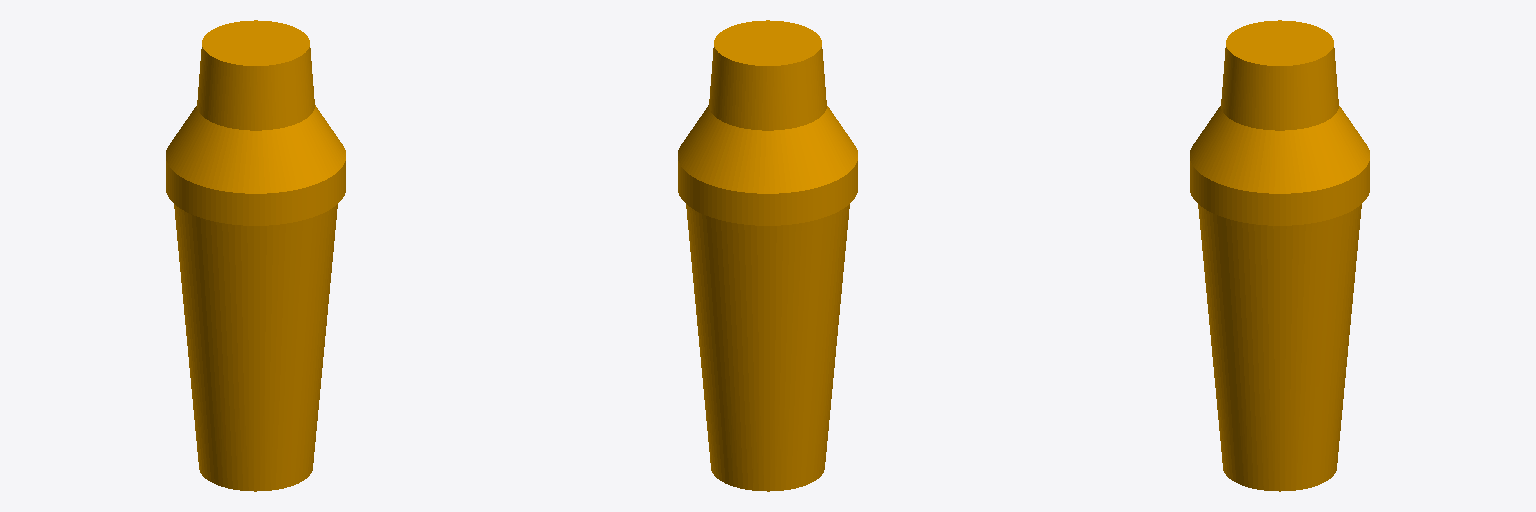
The robot description file, URDF, robot "cocktail_shaker_assembled":
<?xml version="1.0"?>
<!--
  Cocktail shaker ASSEMBLED (Body + Lid + Cap) as ONE rigid body — SHAKING phase.
  Sealed container: beads already inside, lid+cap closed, robot grasps and shakes.
  Visual = OBJ, Collision = STL. Mesh paths relative to this URDF file.
  Meshes in millimeters -> scale 0.001 -> meters. Parts are pre-positioned in
  assembly coordinates, so all three sit under one link with identity origins.

  ISAAC IMPORTANT:
   * Collision approximation = "sdf" for body (and lid) so the interior stays
     hollow and beads interact with inner walls + strainer plate.
     (The prebuilt USD in ../usd already has SDF baked in.)
   * Inertia is measured in Fusion for the real hollow shells, stainless,
     total mass 0.5460 kg, about the assembled center of mass (world z = 0.137355 m).
   * Total assembled height 0.238 m; max outer diameter 0.092 m.
-->
<robot name="cocktail_shaker_assembled">
  <link name="shaker">
    <inertial>
      <origin xyz="0 0 0" rpy="0 0 0"/>  <!-- link origin = assembled center of mass -->
      <mass value="0.5460"/>
      <inertia ixx="3.045972e-03" ixy="0" ixz="0"
                                  iyy="3.045972e-03" iyz="0"
                                                     izz="6.850997e-04"/>
    </inertial>

    <!-- VISUAL: COM-centered part meshes placed at (part_COM - assembled_COM) -->
    <visual><origin xyz="0 0 -0.052964" rpy="0 0 0"/><geometry><mesh filename="../meshes/visual/shaker_body.obj" scale="0.001 0.001 0.001"/></geometry></visual>
    <visual><origin xyz="0 0  0.045996" rpy="0 0 0"/><geometry><mesh filename="../meshes/visual/shaker_lid.obj"  scale="0.001 0.001 0.001"/></geometry></visual>
    <visual><origin xyz="0 0  0.087371" rpy="0 0 0"/><geometry><mesh filename="../meshes/visual/shaker_cap.obj"  scale="0.001 0.001 0.001"/></geometry></visual>

    <!-- COLLISION: STL shells; set SDF on body+lid in Isaac -->
    <collision><origin xyz="0 0 -0.052964" rpy="0 0 0"/><geometry><mesh filename="../meshes/collision/shaker_body.stl" scale="0.001 0.001 0.001"/></geometry></collision>
    <collision><origin xyz="0 0  0.045996" rpy="0 0 0"/><geometry><mesh filename="../meshes/collision/shaker_lid.stl"  scale="0.001 0.001 0.001"/></geometry></collision>
    <collision><origin xyz="0 0  0.087371" rpy="0 0 0"/><geometry><mesh filename="../meshes/collision/shaker_cap.stl"  scale="0.001 0.001 0.001"/></geometry></collision>
  </link>
</robot>

--- What the picture shows (computed from the rendered views, not written in the file) ---
3 views of the same robot in one strip: view 1: azimuth 30°, elevation 25°; view 2: azimuth 150°, elevation 25°; view 3: azimuth 270°, elevation 25° (orthographic).
Model cocktail_shaker_assembled with 1 links and 0 joints (none), rooted at shaker, posed all joints at 0.
Links seen in each view (by area): view 1: shaker; view 2: shaker; view 3: shaker.
Boxes of the visible links, left/top/right/bottom form: shaker: left=166, top=20, right=345, bottom=491; shaker: left=678, top=20, right=857, bottom=491; shaker: left=1190, top=20, right=1369, bottom=491.
Bounding box of the posed robot: 0.092 × 0.092 × 0.238 m (x, y, z).
Meshes: 3 distinct files referenced, 3 mesh visuals loaded (3 OBJ).
